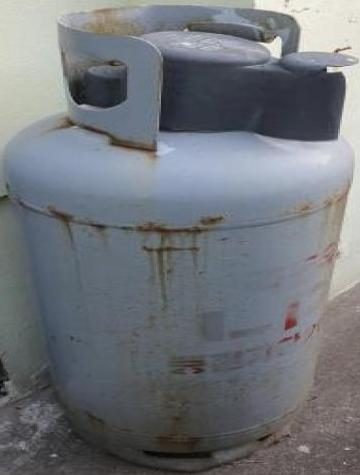cylinder: (0, 1, 360, 475)
